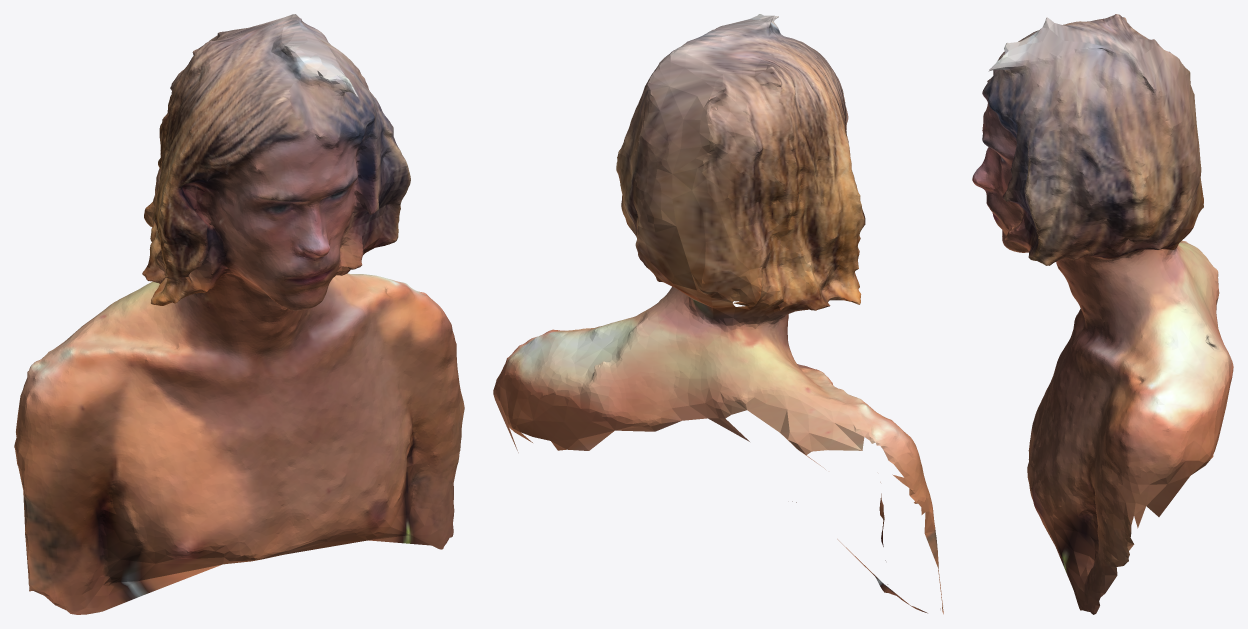
Rendered from self.glb.
3 views of the same model, side by side, from view 1: azimuth 30°, elevation 25°; view 2: azimuth 150°, elevation 25°; view 3: azimuth 270°, elevation 25° (orthographic). The views are drawn at different scales.
Visible parts, largest first — view 1: mesh; view 2: mesh; view 3: mesh.
Boxes of the visible parts, bbox=[...] form: mesh: bbox=[14, 14, 464, 614]; mesh: bbox=[493, 14, 943, 614]; mesh: bbox=[972, 14, 1233, 614].
Bounding box in the file's own units: 0.4837 × 0.5886 × 0.2708.
1 material, 1 textured.
